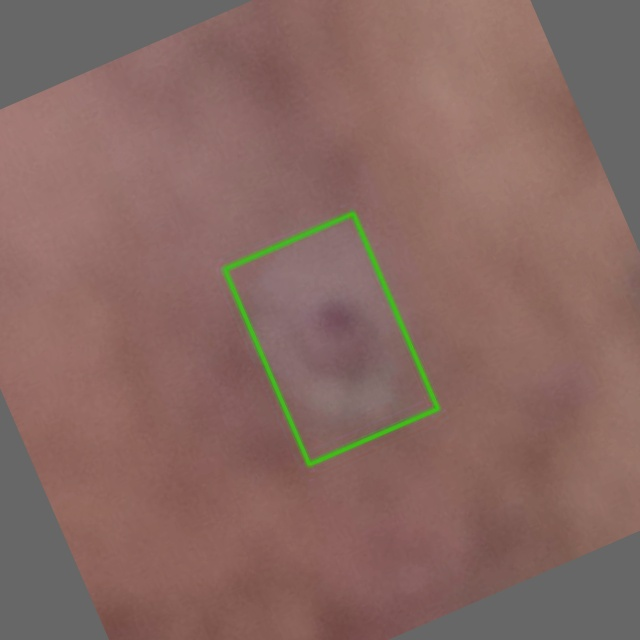Eczema: (224, 213, 437, 464)
